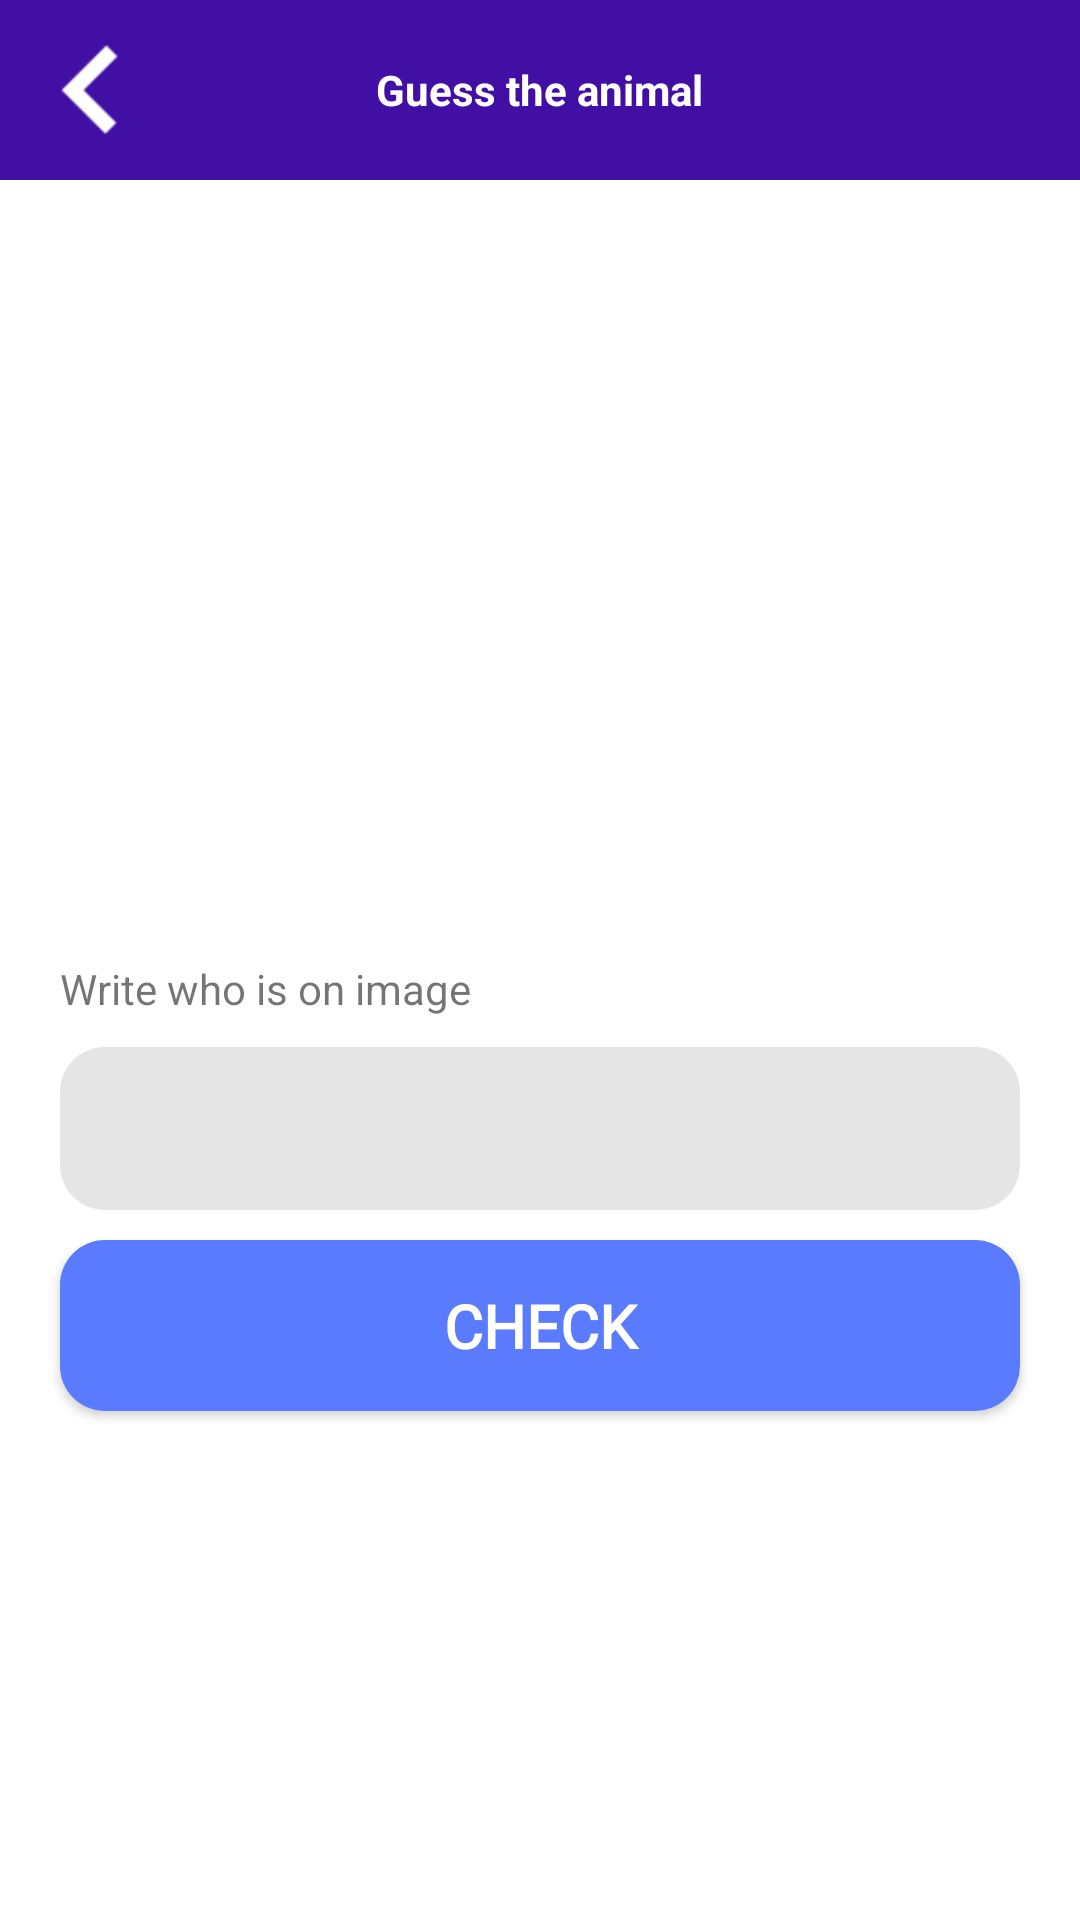

Icons on this 1080px x 1920px Android screen, each with its box as {"x1": x1, "y1": y1, "x2": x2, "y2": y2}:
back: {"x1": 61, "y1": 45, "x2": 118, "y2": 134}
